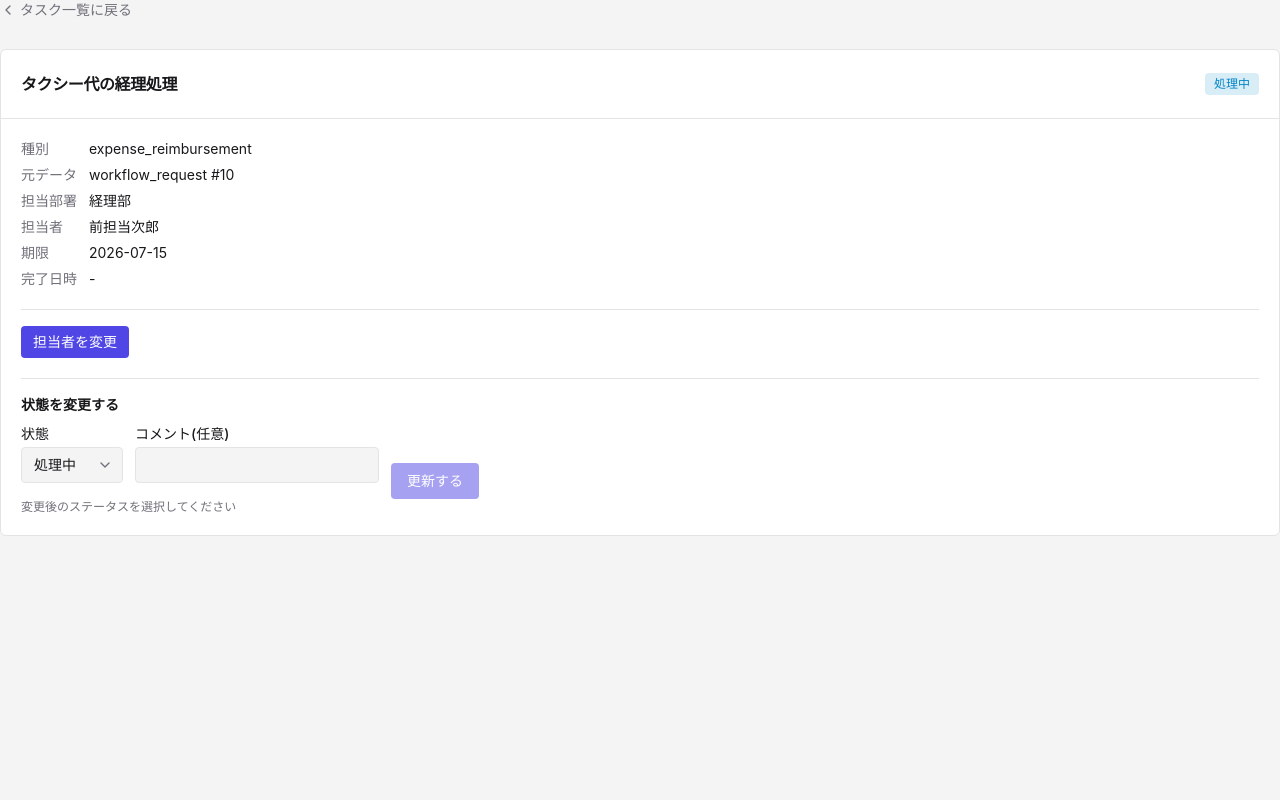
Test: BackOfficeTaskDetailPage › changes the assignee of an in-progress task from the dialog, notifies and closes it
The width and height of the screenshot is (1280, 800).
Click the button "担当者を変更" at (75, 342), box [21,326,129,358]
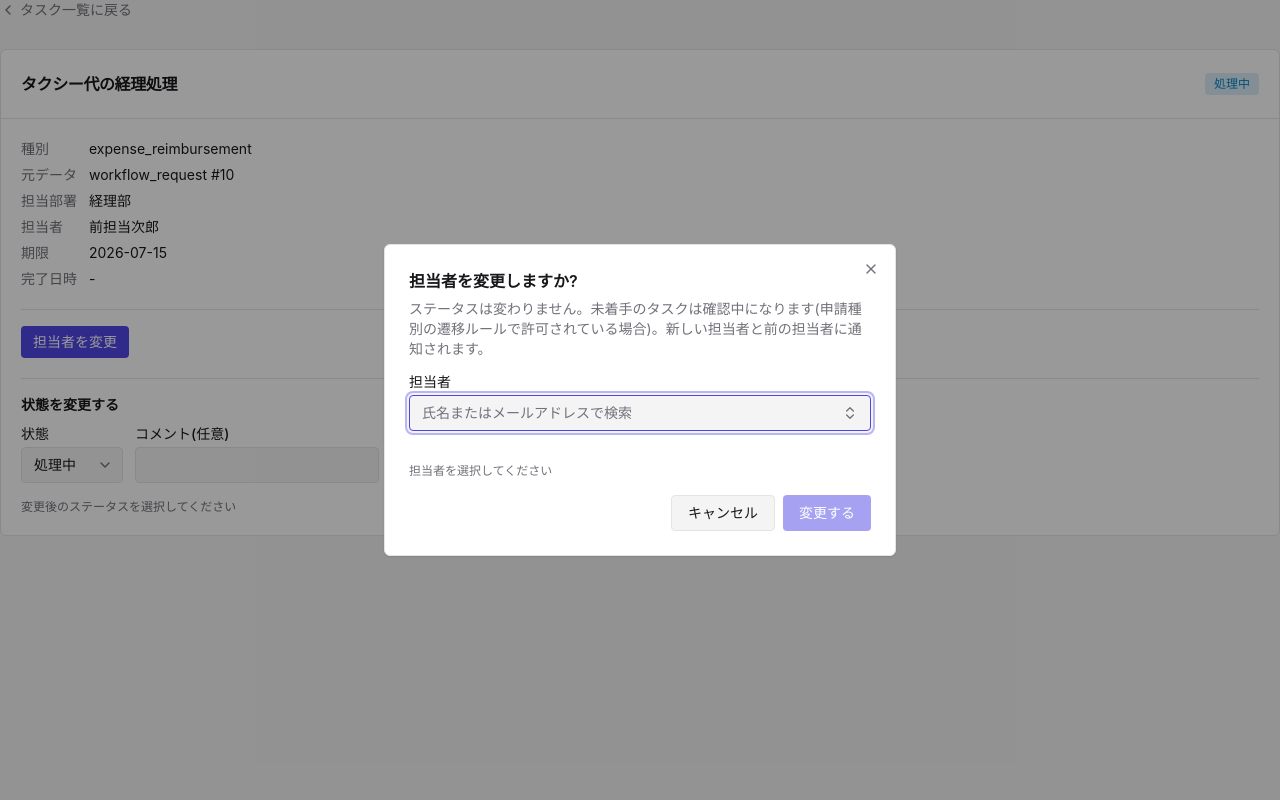
Now the heading "担当者を変更しますか?" is shown, box [409,271,578,291]
Now the text "ステータスは変わりません。未着手のタスクは確認中になります(申請種別の遷移ルールで許可されている場合)。新しい担当者と前の担当者に通知されます。" is shown, box [409,299,871,359]
Now the button "変更する" is disabled, box [783,495,871,531]
Click the dropdown named "担当者" at (527, 412), box [409,395,871,431]
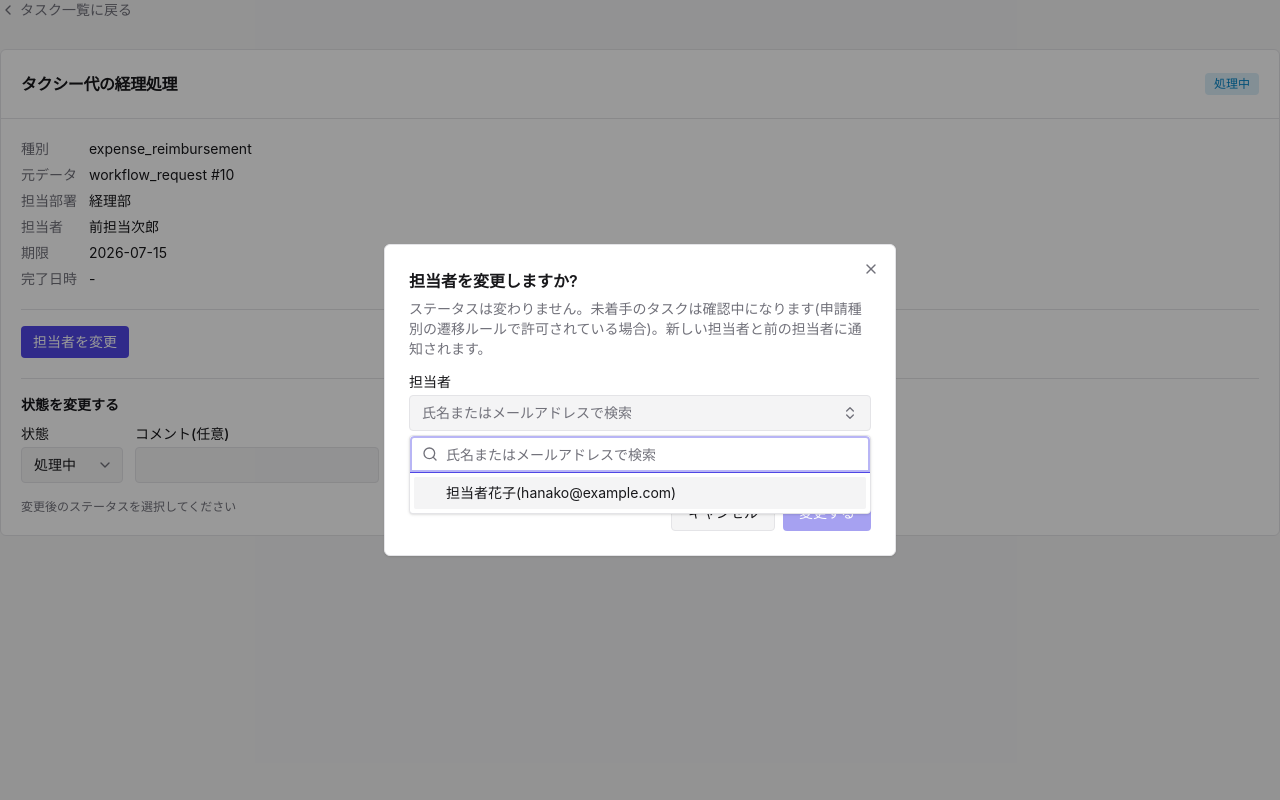
Type "花子" into the 2nd dropdown with placeholder "氏名またはメールアドレスで検索" at (652, 454), box [446,436,858,472]
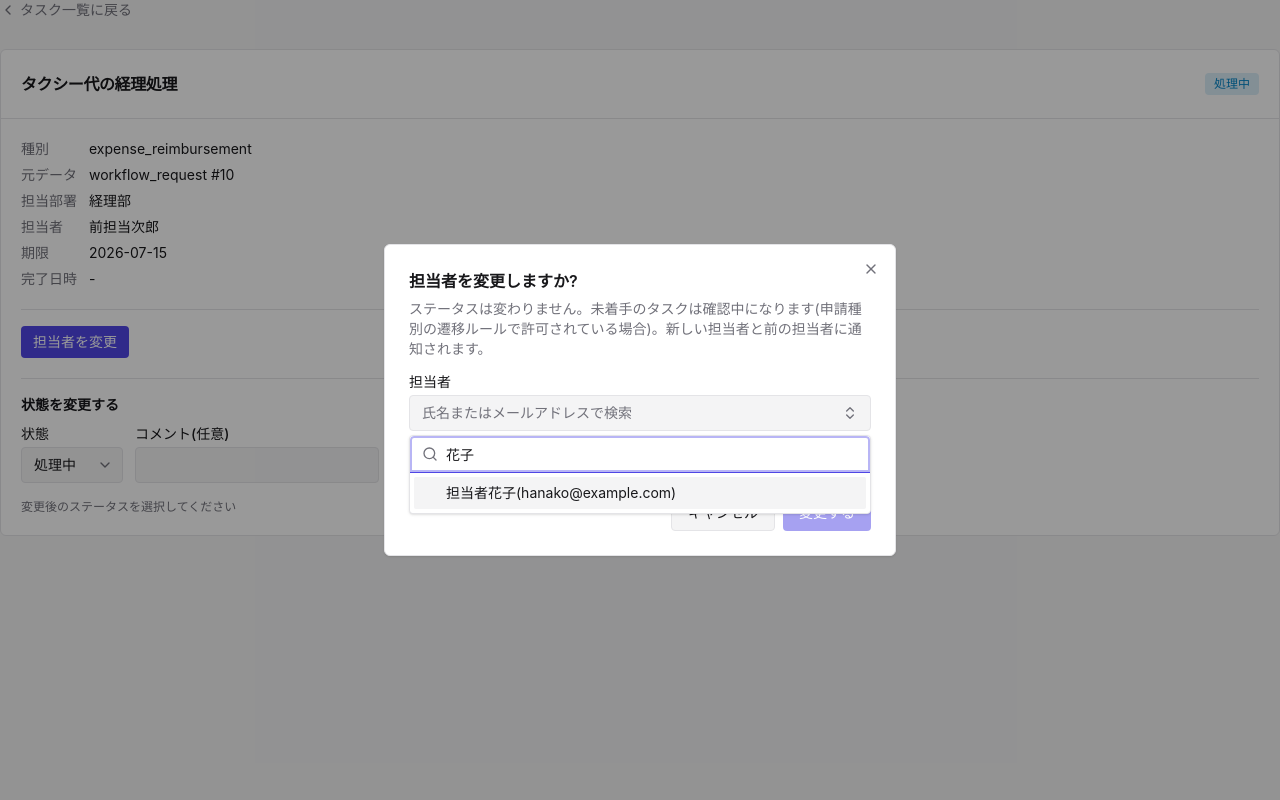
Click the option "担当者花子(hanako@example.com)" at (640, 493), box [414,477,866,509]
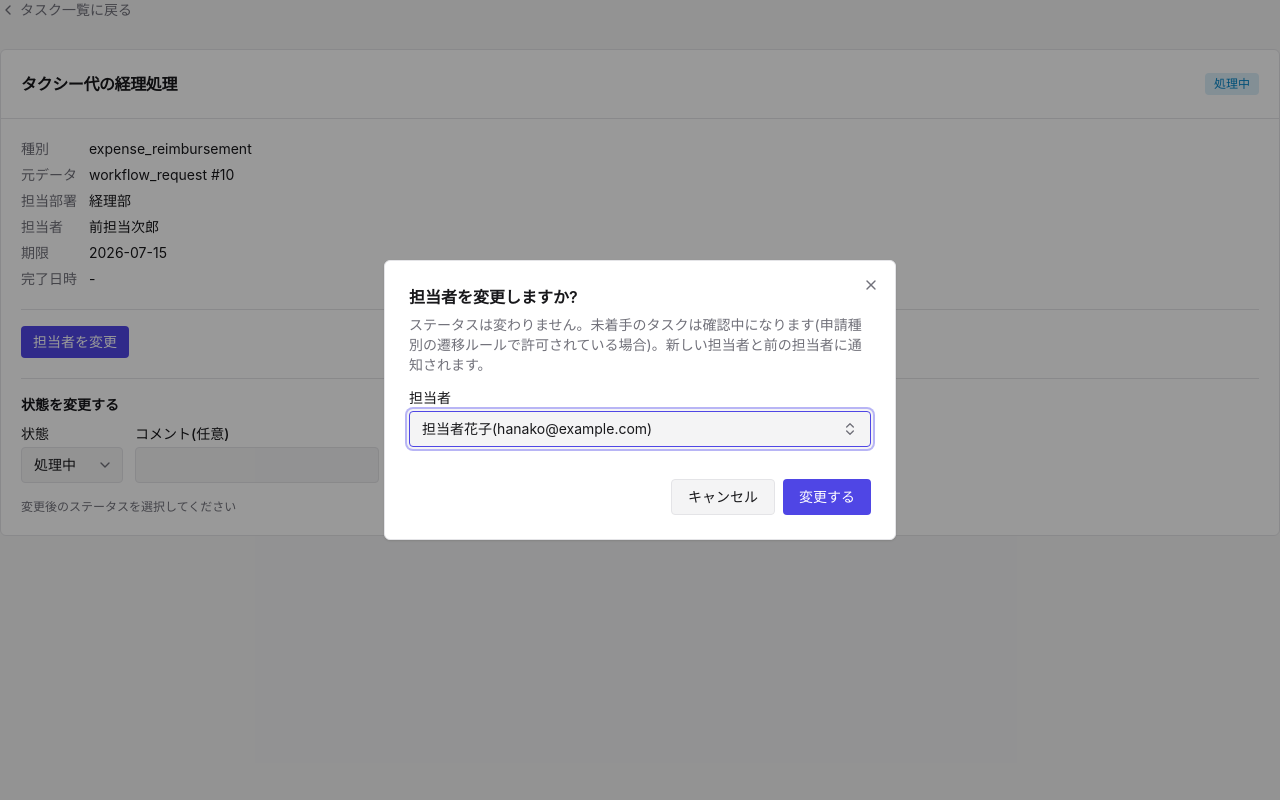
Click the button "変更する" at (827, 497), box [783,479,871,515]
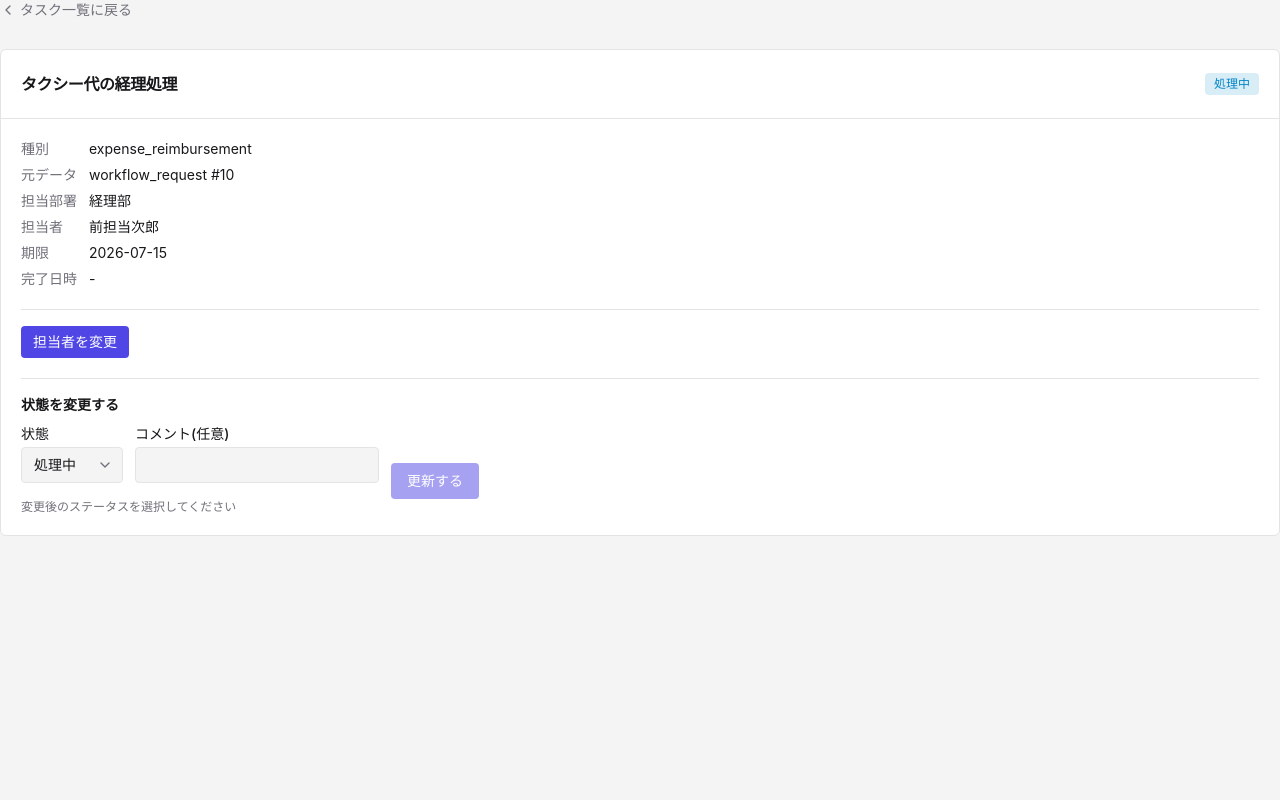
Now the dialog is gone
